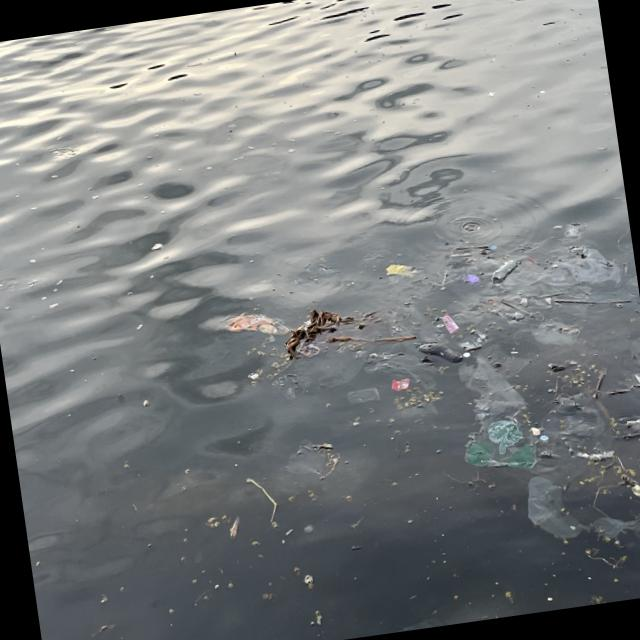plastic bag: (467, 406, 530, 474)
